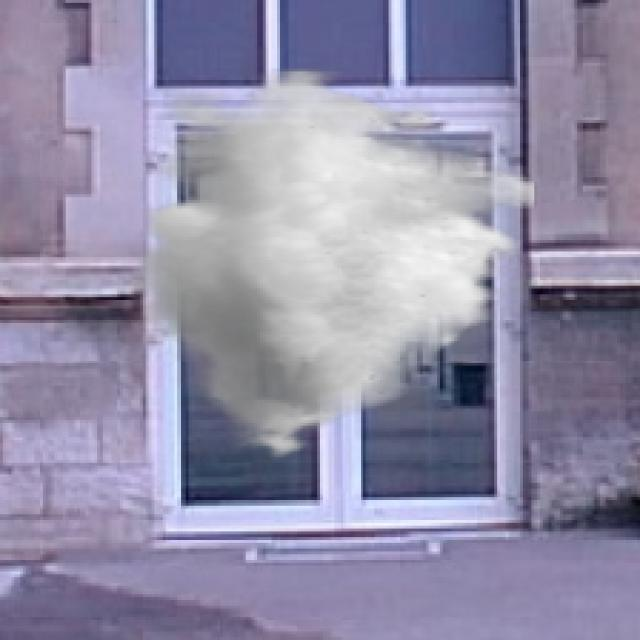Smoke: (128, 68, 538, 466)
